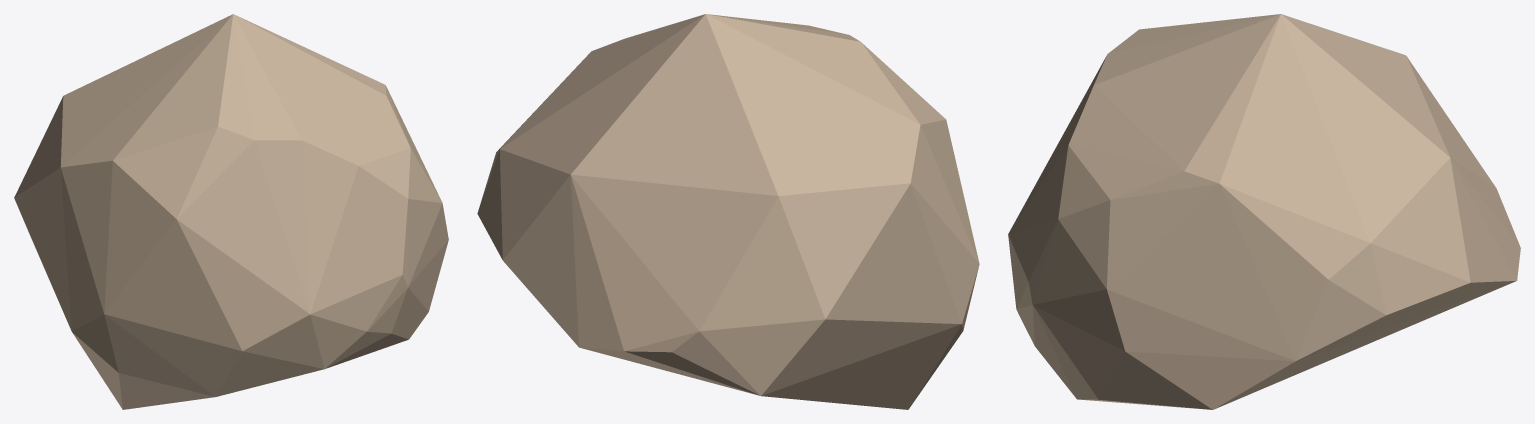
File: food_produce_onion_b01.glb
The picture shows the model from 3 angles, left to right: view 1: azimuth 30°, elevation 25°; view 2: azimuth 150°, elevation 25°; view 3: azimuth 270°, elevation 25°; orthographic projection. The views are drawn at different scales.
Visible parts, largest first — view 1: geometry_0; view 2: geometry_0; view 3: geometry_0.
Boxes of the visible parts, x1,y1,x2,y2 form: geometry_0: (14, 14, 448, 409); geometry_0: (477, 14, 979, 409); geometry_0: (1008, 14, 1520, 409).
Bounding box in the file's own units: 0.4438 × 0.3834 × 0.45.
